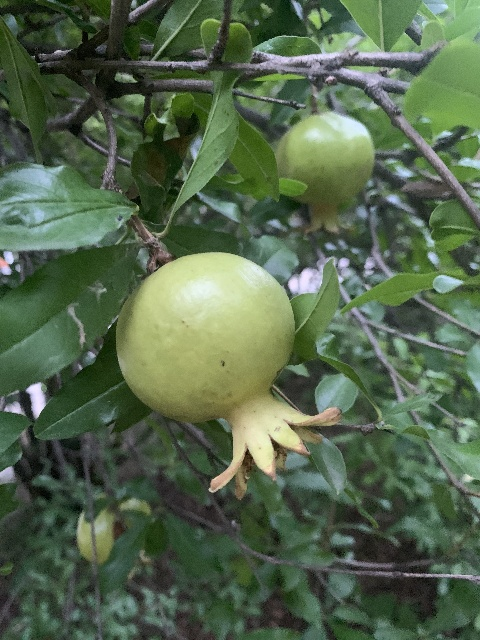mid-growth: (113, 250, 343, 501), (276, 112, 374, 235), (77, 497, 150, 563)
